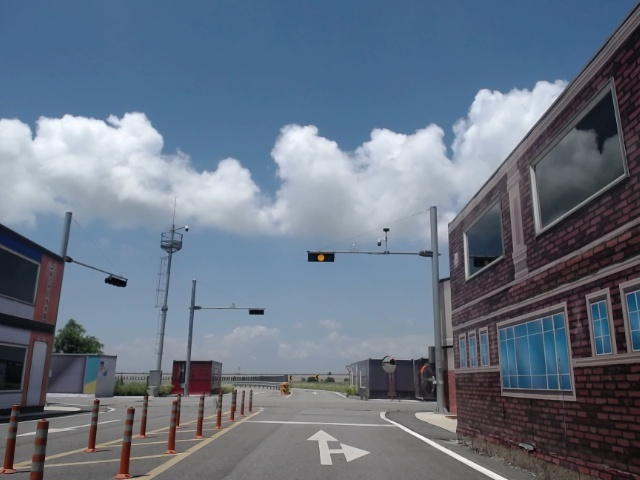orange_3: (307, 252, 336, 262)
